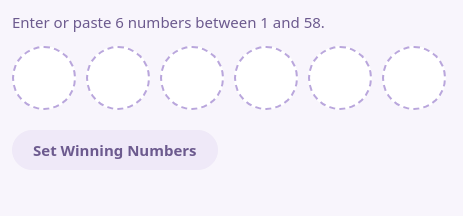
Test case: WinningInputComponent › notices a field left after another one was
In the 1st number field: [44, 78] box [12,46,76,110], type "4"
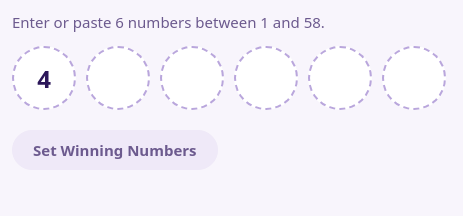
In the 2nd number field: [118, 78] box [86,46,150,110], type "4"
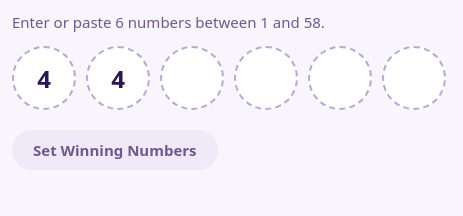
Leave the 2nd number field, box [86,46,150,110]
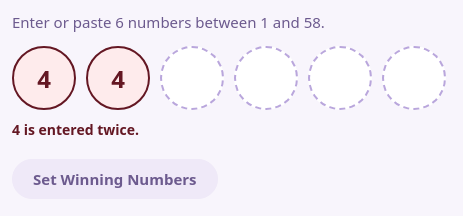
Result: the text with id "winning-problem" reads "4 is entered twice." at [12,120,139,139]
